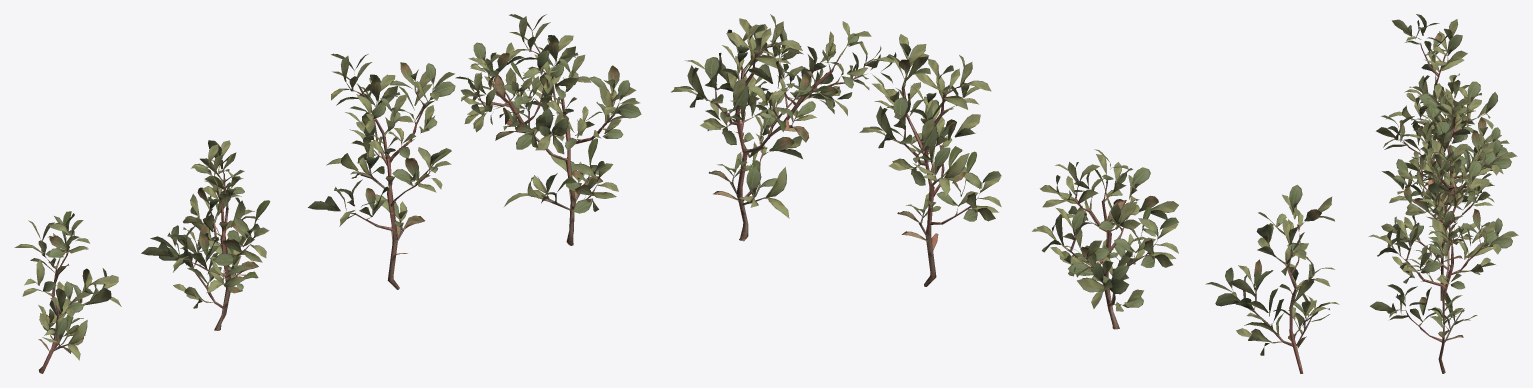
Rendered from shrub_04.glb.
3 views of the same model, side by side, from view 1: azimuth 30°, elevation 25°; view 2: azimuth 150°, elevation 25°; view 3: azimuth 270°, elevation 25° (orthographic). The views are drawn at different scales.
Parts seen in each view (by area): view 1: shrub_04; view 2: shrub_04; view 3: shrub_04.
Boxes of the visible parts, x1,y1,x2,y2 form: shrub_04: (14, 14, 641, 373); shrub_04: (671, 14, 1339, 373); shrub_04: (1368, 14, 1518, 373).
Bounding box in the file's own units: 0.5837 × 0.2192 × 0.1461.
Materials: 1 (1 with a texture image).
